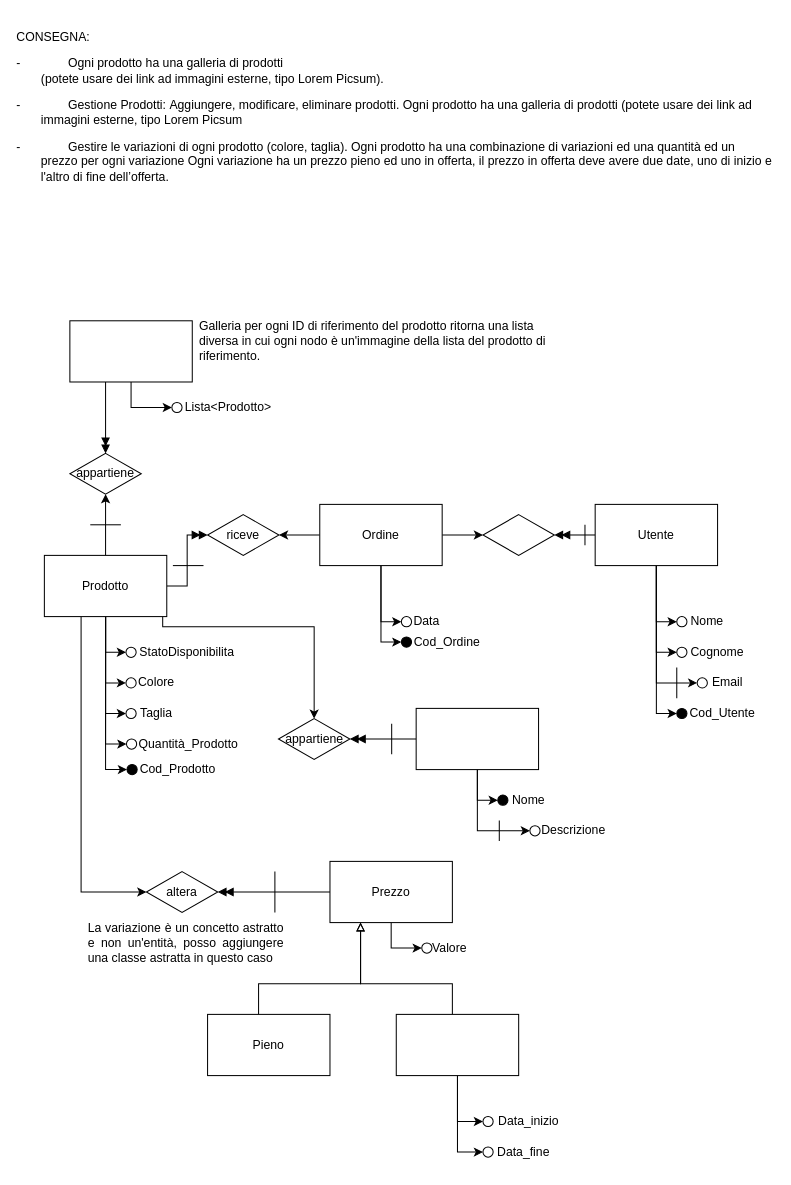
Some shapes in this 791 by 1185 pixel diagram are drawn without their labels. The centre of each missing label's shape, as x and y in pixels:
"Categoria" goes at [477,738].
"effettua" goes at [518,534].
"Galleria" goes at [130,351].
"Offerta" goes at [457,1044].
